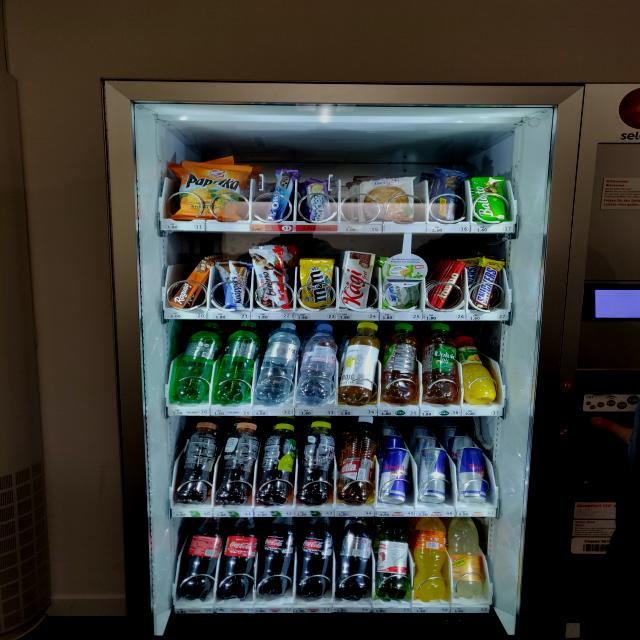balisto_muesli__37g__5000159418546: (471, 176, 506, 222)
berger_nusstoertli____: (359, 176, 416, 222)
bueno___43__4008400320328: (250, 248, 289, 308)
coke__flasche_50__54491472: (177, 518, 219, 601), (218, 517, 256, 598)
coke_zero_flasche_50__5449000131836: (295, 516, 335, 598), (256, 516, 296, 595), (335, 518, 373, 600)
evian___50__3068320353500: (297, 322, 338, 406)
fanta___50__40822938: (412, 518, 447, 600)
fuse_lemon__50__5449000235947: (255, 419, 298, 506), (297, 419, 334, 504)
fuse_peach__50__5449000236623: (215, 421, 256, 504), (178, 421, 218, 503)
granini_orange__50__: (465, 337, 494, 405)
kagi___50__7610046000259: (340, 250, 376, 309)
knoppers_riegel____4035800488808: (220, 260, 249, 310)
milka_oreo_riegel_37_1_7622210704740: (265, 170, 297, 222)
milka_tender____: (306, 180, 328, 221)
mnms_gelb__45__40111445: (297, 260, 335, 309)
momo_icetea__50__: (342, 322, 382, 406)
powerbar_proteinplusschoko__55__4029679520028: (432, 168, 466, 220)
ragusa___50__76401121: (170, 259, 210, 309)
ramseier_jusdepomme__50__7610057001078: (374, 516, 410, 600)
redbull___33__90162909: (380, 447, 412, 505), (418, 446, 449, 505), (456, 447, 489, 502)
rivella_rot__50__7610097111072: (334, 416, 377, 504)
schweppes_citrus__50__: (447, 516, 485, 597)
snickers___50__5000159461122: (470, 256, 503, 310)
torino___46__76415272: (429, 258, 466, 310)
valser_classic__50__76404160: (214, 320, 260, 404), (172, 323, 218, 403)
valser_still__50__7610335002575: (259, 322, 299, 404)
volvic_teeminze__50__3057640335648: (382, 323, 420, 403), (426, 324, 457, 404)
zweifel_paprika__90__7610095013002: (174, 160, 253, 222)
